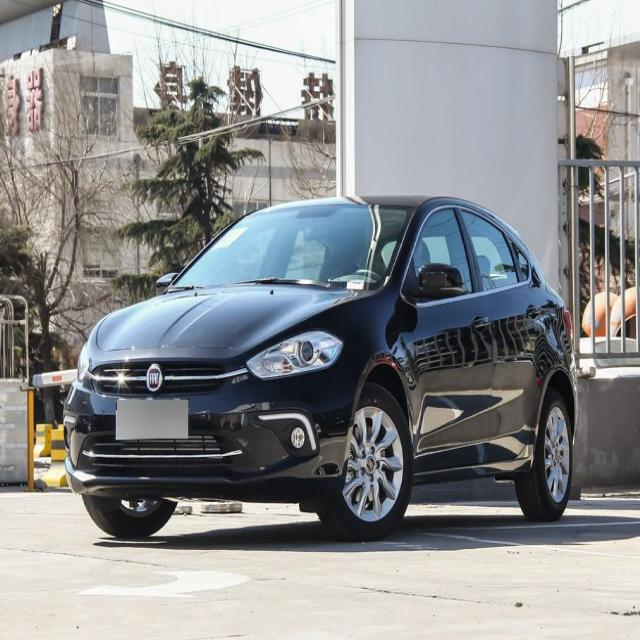door: (463, 207, 536, 461)
front_bumper: (63, 369, 348, 500)
front_glass: (175, 202, 406, 290)
front_left_side_door: (394, 198, 494, 476)
front_left_side_light: (244, 325, 344, 385)
front_left_side_mirror: (418, 258, 467, 304)
wheel: (319, 385, 411, 541), (516, 386, 574, 520)
